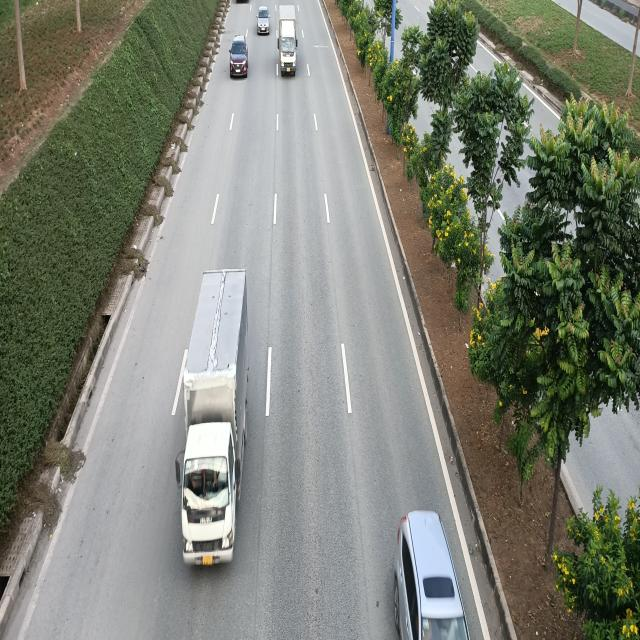car: (395, 509, 473, 639), (230, 36, 250, 78)
truck: (172, 270, 245, 568), (278, 1, 299, 75)
